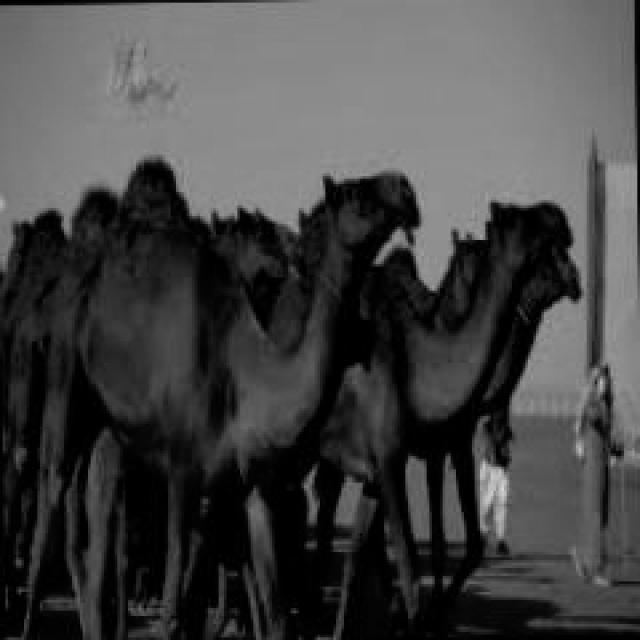Camel: (0, 157, 421, 637), (309, 198, 582, 638)
